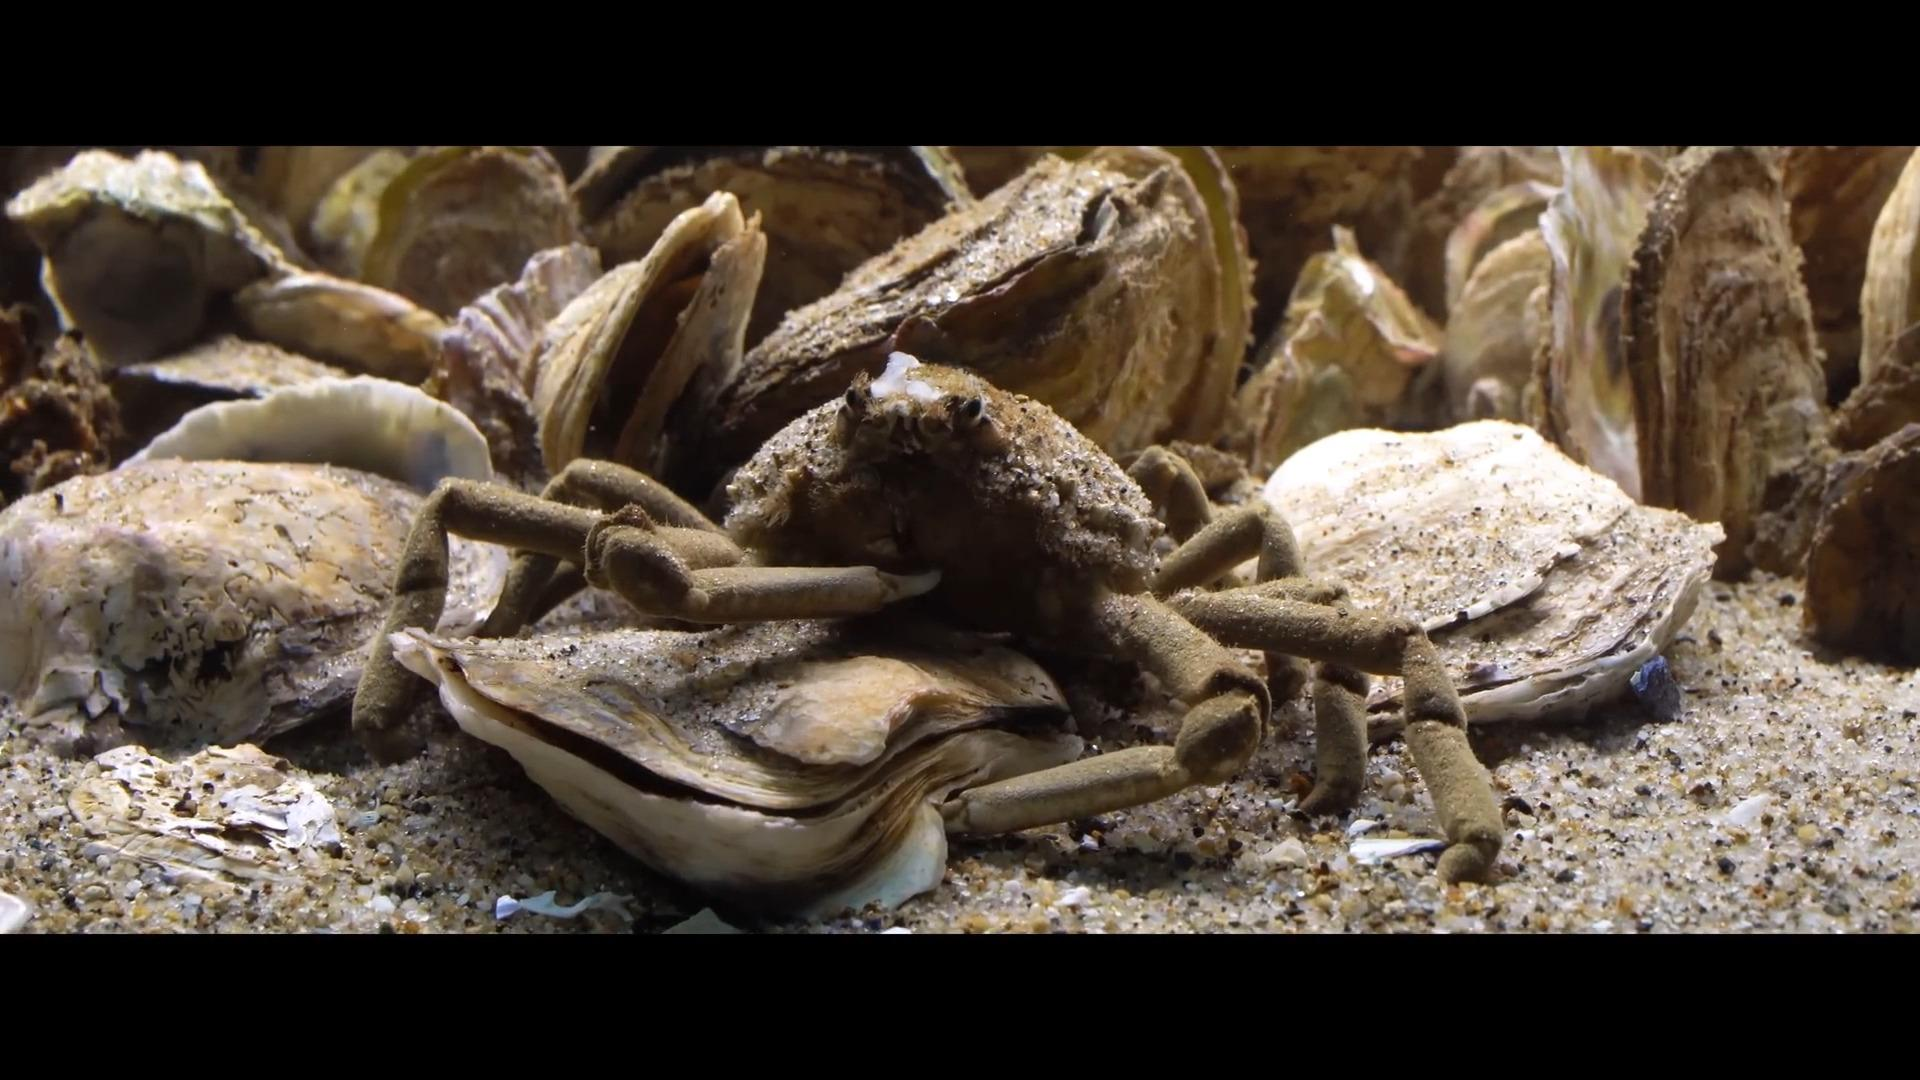Oyster: (392, 615, 1083, 914), (709, 150, 1224, 476), (1262, 422, 1722, 724), (0, 462, 422, 742), (1621, 149, 1822, 566), (534, 186, 762, 492), (5, 148, 298, 372), (140, 376, 498, 492), (349, 146, 582, 319), (1779, 142, 1905, 396)
